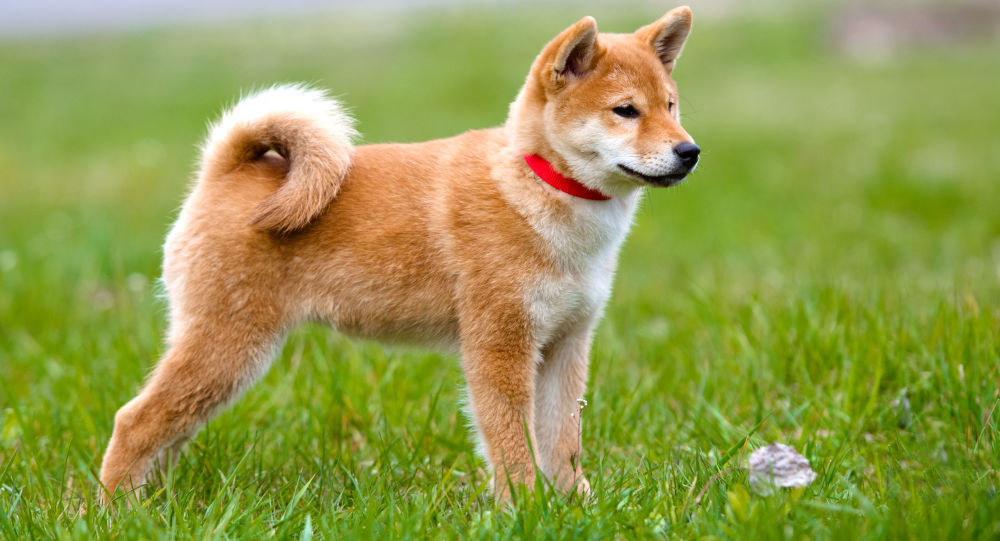dog: (108, 13, 687, 501)
